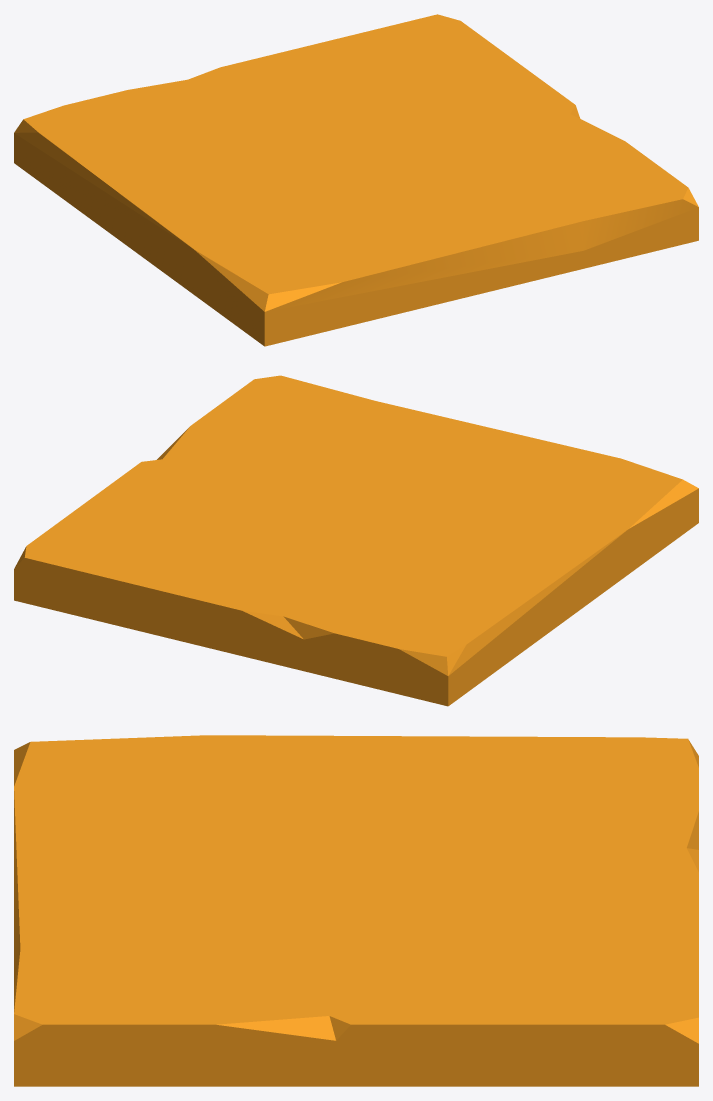
The model's file is SM_Buildings_Floor_1x1_01P.fbx.
3 renders of one model, top to bottom at view 1: azimuth 30°, elevation 25°; view 2: azimuth 150°, elevation 25°; view 3: azimuth 270°, elevation 25°, orthographic. The views are drawn at different scales.
Visible parts, largest first — view 1: SM_Buildings_Floor_1x1_01P; view 2: SM_Buildings_Floor_1x1_01P; view 3: SM_Buildings_Floor_1x1_01P.
Part boxes in pixels (x1,y1,x2,y2): SM_Buildings_Floor_1x1_01P: (14, 14, 698, 346); SM_Buildings_Floor_1x1_01P: (14, 375, 698, 706); SM_Buildings_Floor_1x1_01P: (14, 735, 698, 1086).
Size of the model in its own units: 100 by 10 by 100.
